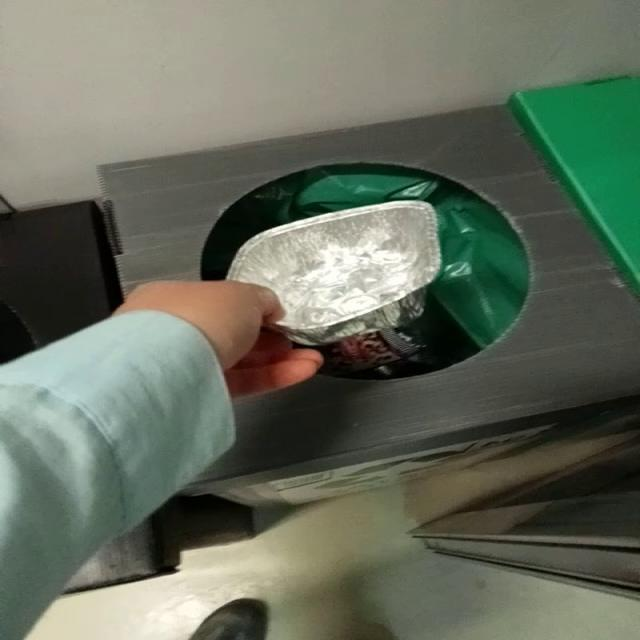bin: (99, 105, 639, 492)
metal: (227, 201, 441, 346)
